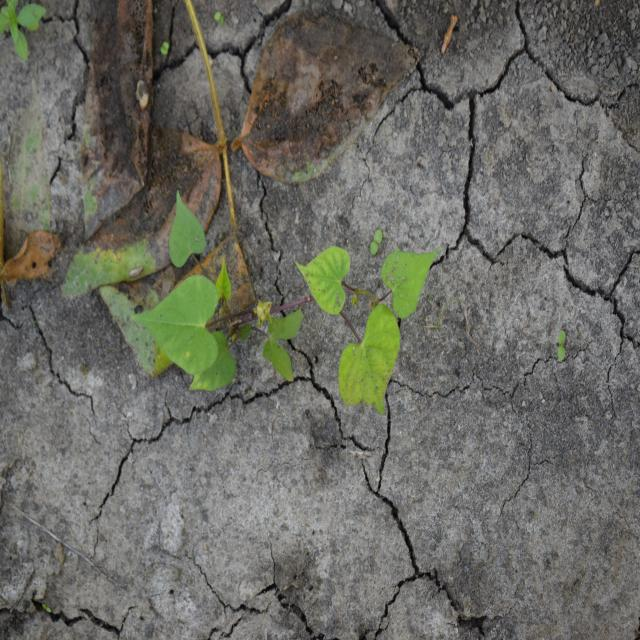MorningGlory: (128, 186, 444, 418)
